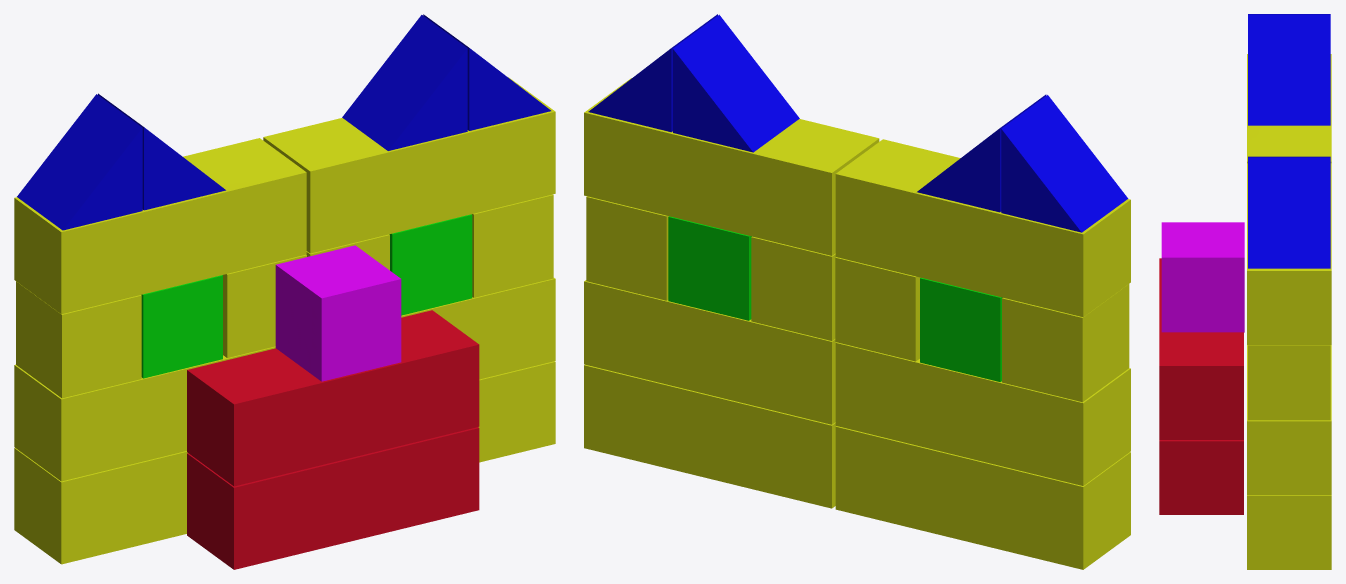
The model's file is Block Cat.fbx.
The picture shows the model from 3 angles, left to right: view 1: azimuth 30°, elevation 25°; view 2: azimuth 150°, elevation 25°; view 3: azimuth 270°, elevation 25°; orthographic projection. The views are drawn at different scales.
Visible parts, largest first — view 1: Blocks :D; view 2: Blocks :D; view 3: Blocks :D.
Part boxes in pixels (x1=…): Blocks :D: x1=14, y1=14, x2=555, y2=569; Blocks :D: x1=584, y1=14, x2=1130, y2=569; Blocks :D: x1=1159, y1=14, x2=1331, y2=569.
Bounding box in the file's own units: 77.25 × 62.24 × 25.94.
1 material, 1 textured.
